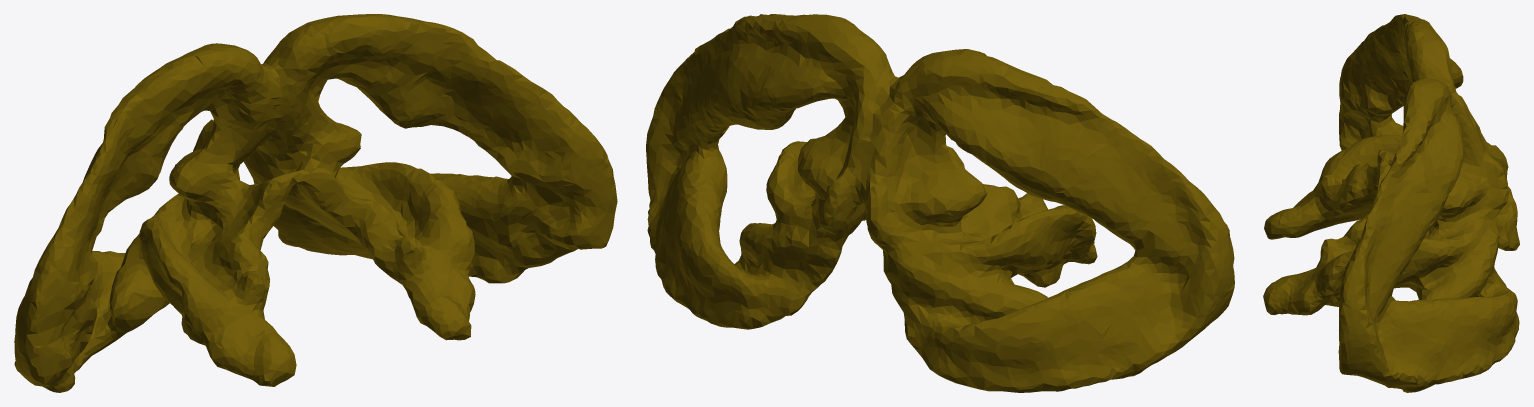
The model's file is 125-V2-visual area 2-('0.4980', '0.4000', '0.0000').obj.
3 views of the same model, side by side, from view 1: azimuth 30°, elevation 25°; view 2: azimuth 150°, elevation 25°; view 3: azimuth 270°, elevation 25° (orthographic). The views are drawn at different scales.
Bounding box in the file's own units: 349 × 169 × 160.
